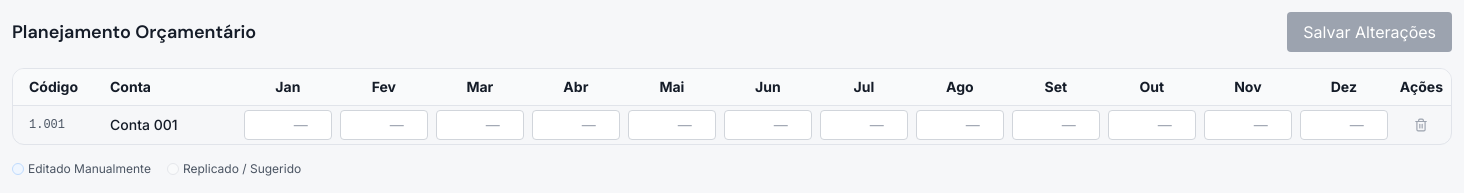
Test case: BudgetGrid › deve replicar valor ao sair da celula de janeiro
In the 1st number field with placeholder "—": x=288, y=125 [244, 110, 332, 140], type "2500"
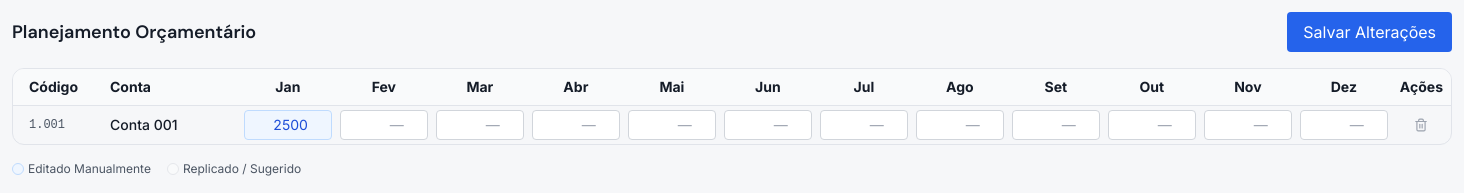
Leave the number field with placeholder "—", box [244, 110, 332, 140]
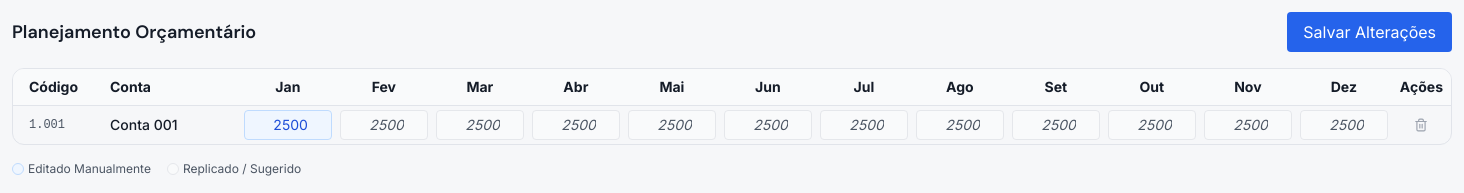
Now the 2nd number field with placeholder "—" holds "2500", box [340, 110, 428, 140]
Now the 3rd number field with placeholder "—" holds "2500", box [436, 110, 524, 140]
